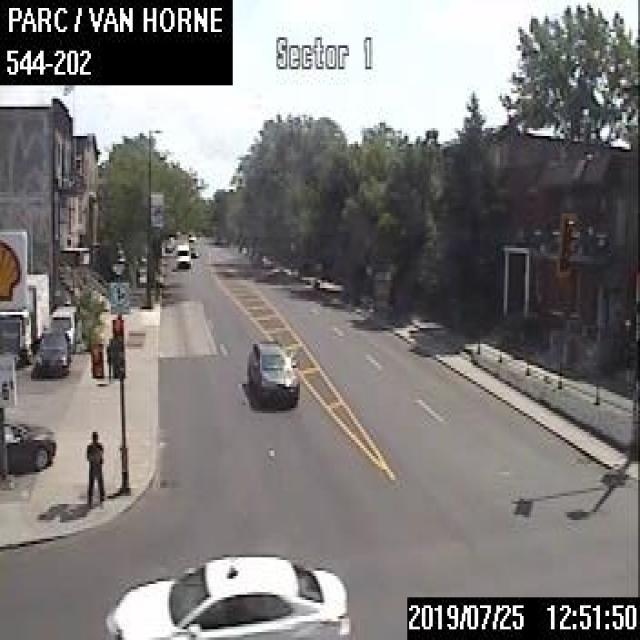pedestrian: (84, 428, 105, 507), (104, 335, 112, 382)
vehicle: (102, 550, 351, 638), (244, 336, 298, 408), (2, 419, 55, 472), (48, 300, 81, 352), (35, 327, 70, 372), (174, 242, 190, 267), (189, 242, 198, 256), (163, 240, 172, 250)
